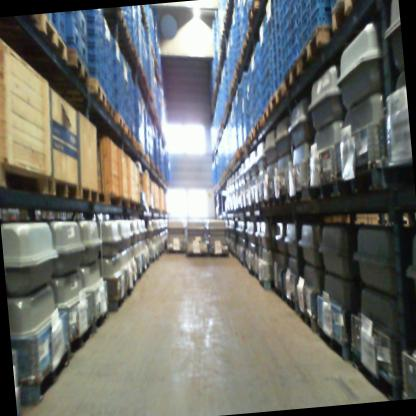pallet: (18, 347, 74, 407), (350, 346, 402, 404), (0, 155, 51, 201), (295, 24, 334, 74), (314, 321, 353, 364), (35, 12, 67, 64), (329, 0, 379, 32), (375, 158, 415, 193), (333, 164, 377, 195), (67, 321, 97, 359), (65, 45, 91, 87), (50, 174, 81, 202), (304, 177, 335, 202), (281, 57, 301, 93), (88, 77, 108, 108), (297, 306, 317, 335), (91, 306, 111, 333), (79, 184, 100, 206), (99, 190, 123, 209), (270, 84, 285, 110), (246, 0, 261, 26), (108, 292, 127, 312), (284, 293, 298, 316), (287, 188, 306, 203), (261, 99, 273, 122), (105, 98, 116, 122), (253, 114, 265, 136), (115, 112, 126, 133), (243, 27, 253, 45), (125, 124, 135, 142), (273, 193, 288, 205), (119, 13, 128, 32), (234, 56, 243, 75), (274, 285, 284, 301), (247, 127, 256, 144), (187, 251, 208, 258), (239, 43, 247, 61), (209, 251, 229, 258), (167, 248, 186, 255), (122, 197, 131, 209), (263, 199, 274, 208), (254, 200, 263, 211), (137, 142, 144, 155), (132, 138, 138, 149), (238, 146, 245, 155), (230, 159, 235, 167)
